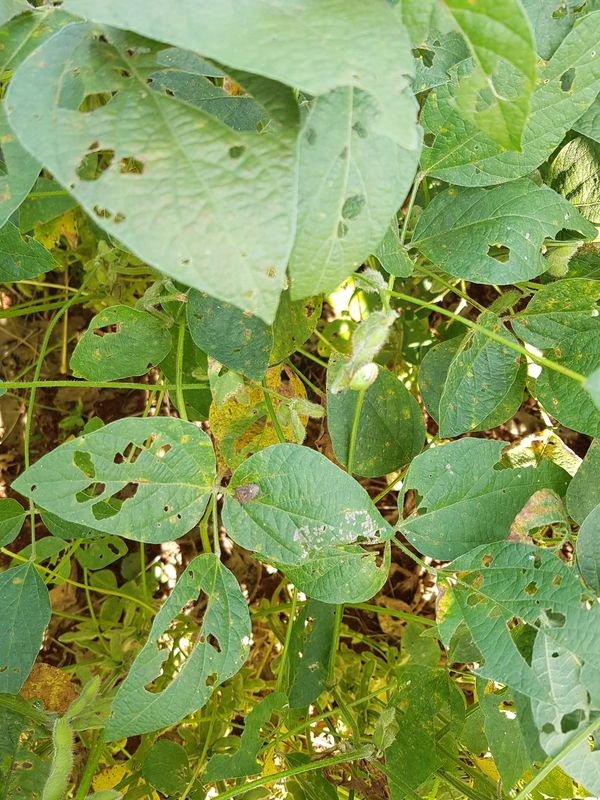Euschistus_heros_adulto: (226, 480, 262, 511)
Nezara_viridula_ninfa: (341, 355, 385, 398)
